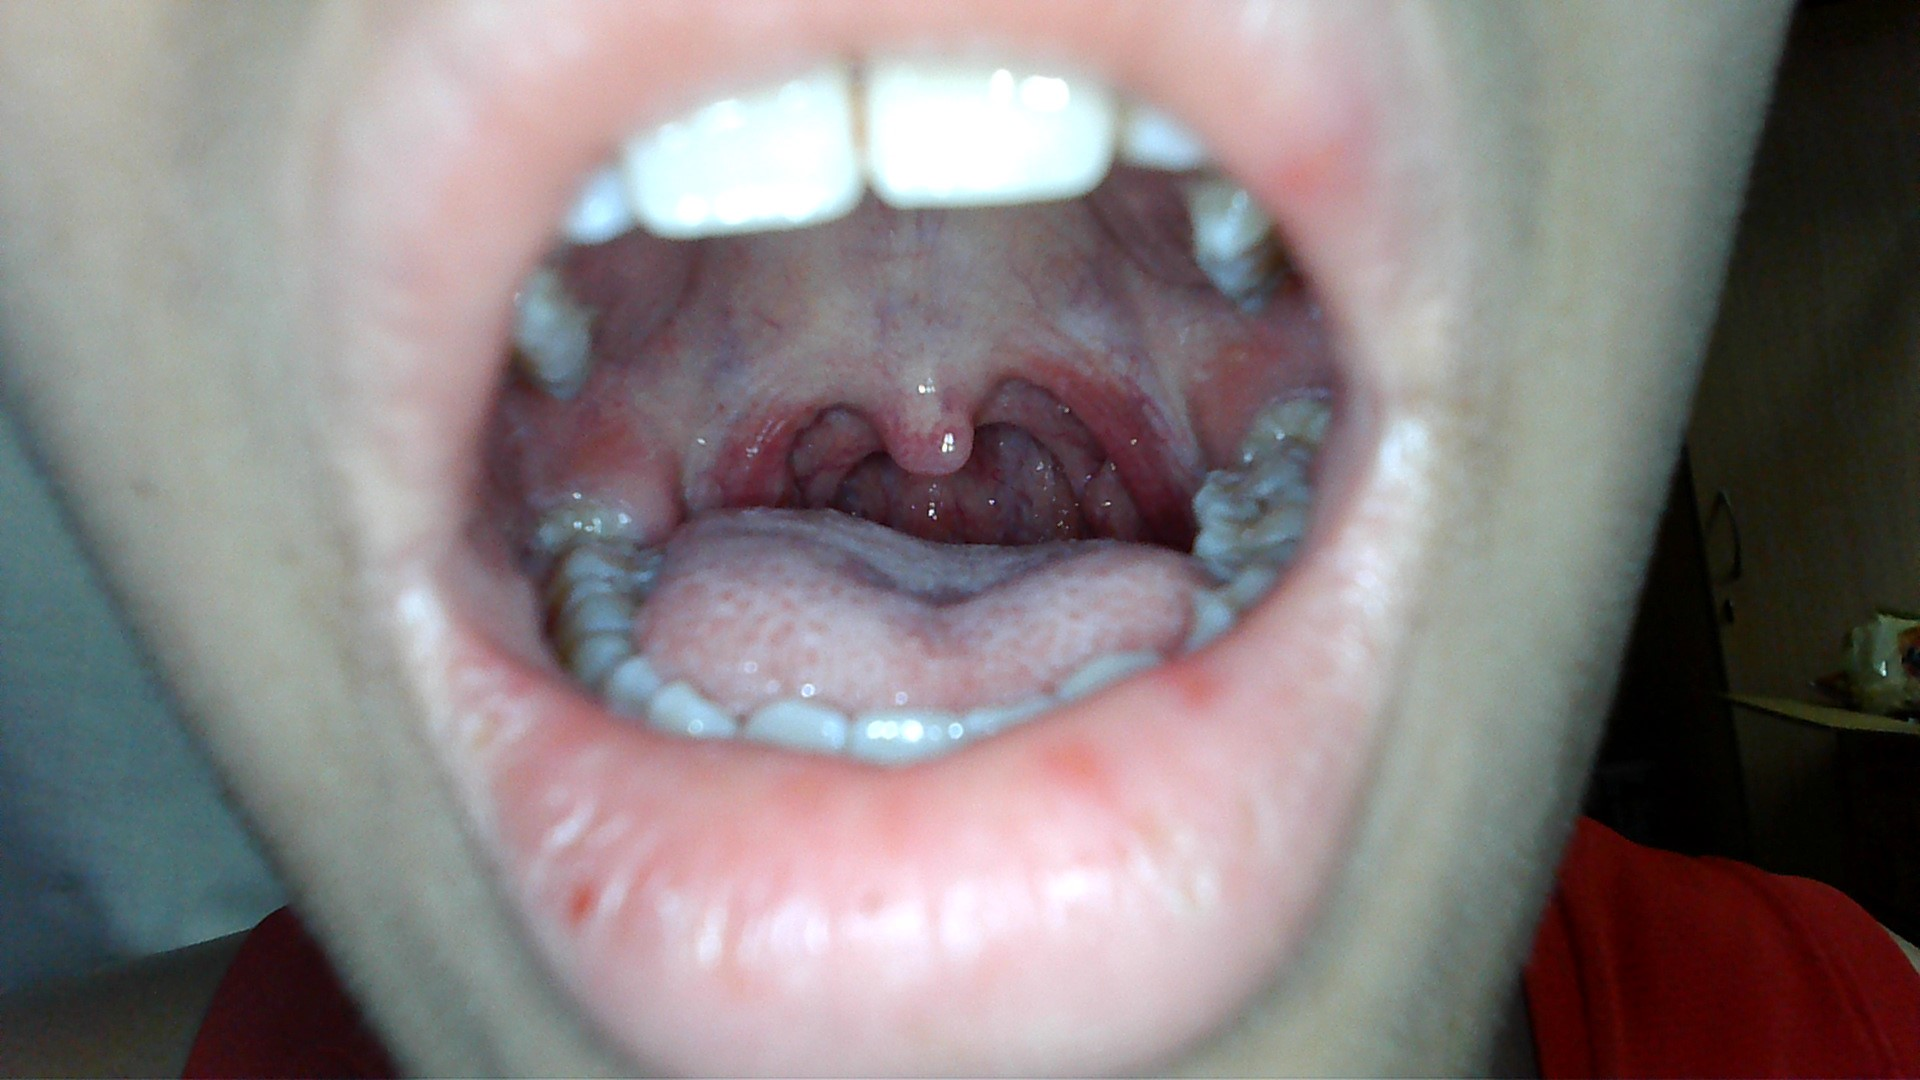throat: (1046, 336, 1178, 527), (709, 348, 862, 504)
